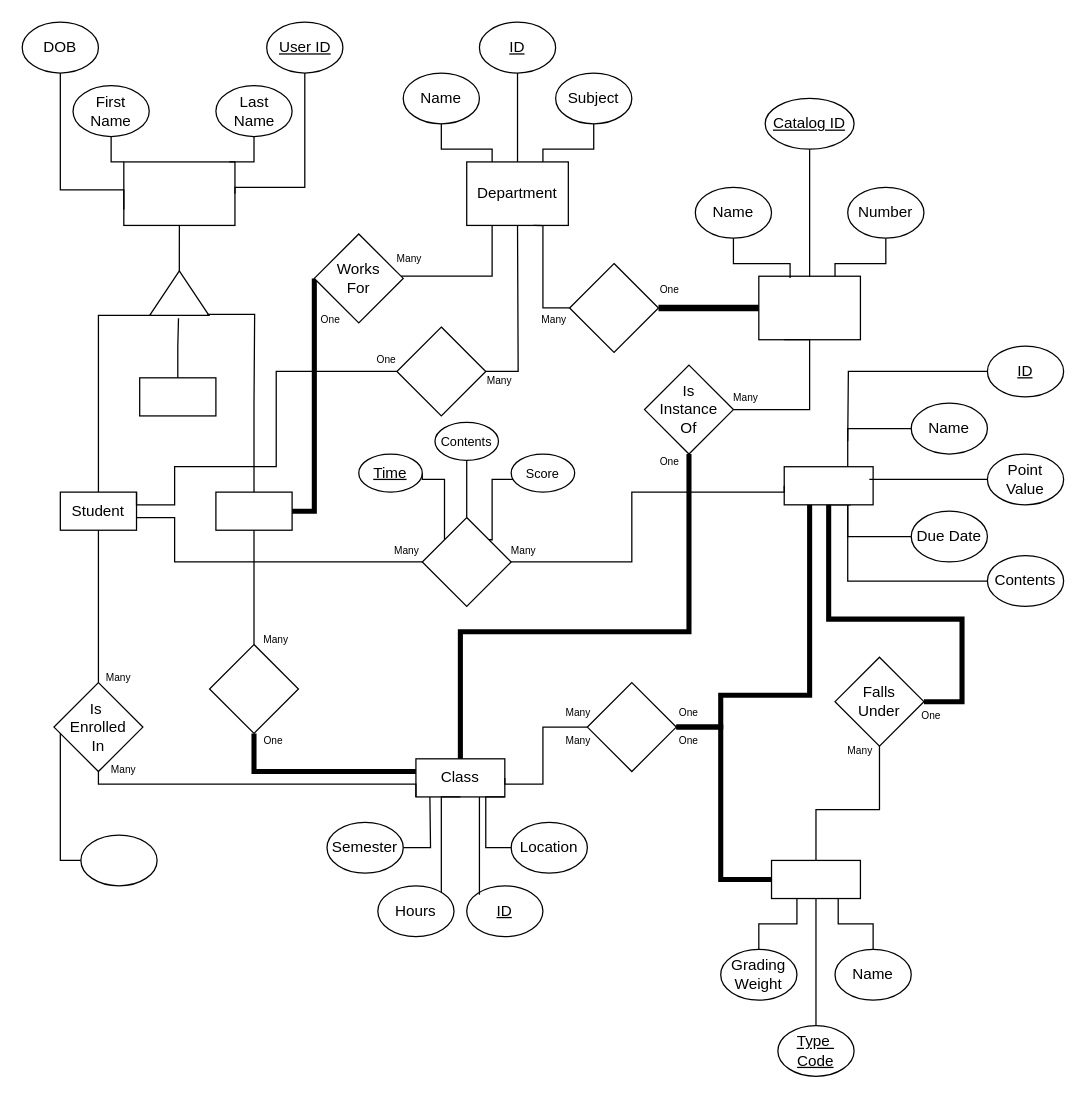
Some shapes in this 1086 by 1099 pixel diagram are drawn without their labels. The centre of each missing label's shape, as x and y in pixels:
Admin: point 177,396
Assignment: point 828,485
Category: point 815,879
Course: point 809,307
Grade: point 118,860
Has: point 631,726
Listed By: point 613,307
Majors In: point 441,371
Professor: point 253,510
Submits: point 466,561
Teaches: point 253,688
User: point 179,193
